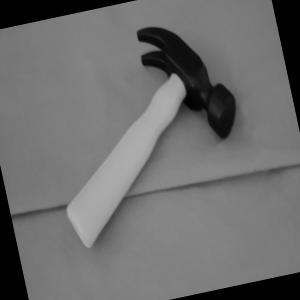martelo: (31, 9, 260, 251)
